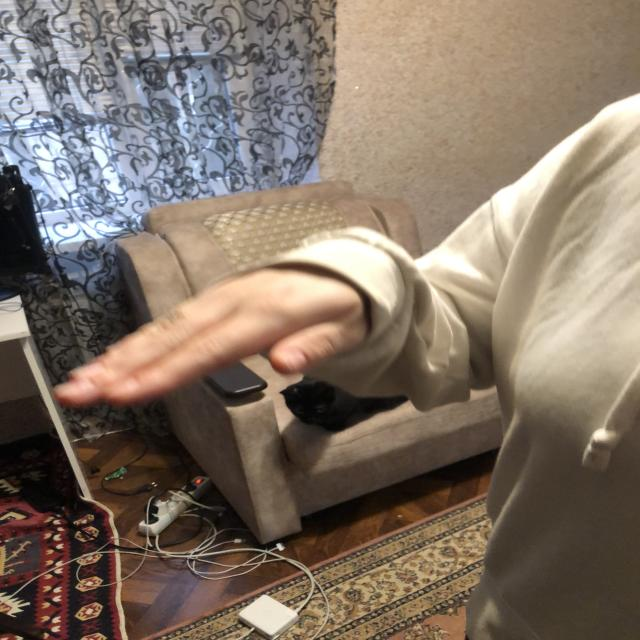paper: (55, 294, 367, 404)
